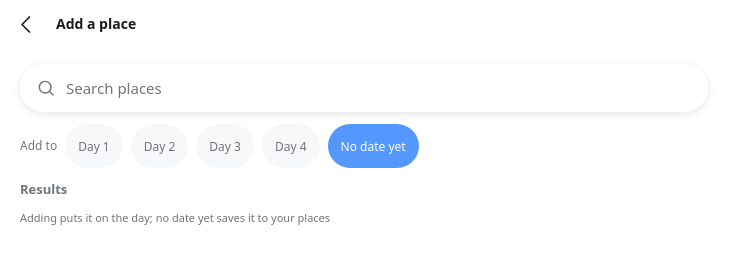
Test: FE-305-T2 the screen renders each state › says so when nothing matches
Type "없는장소" into the search field. click: x=378, y=88
box: [64,64,692,112]
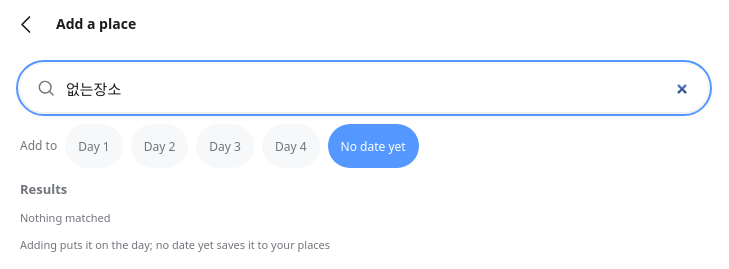
expect the text "Nothing matched" is shown: met, box [20,210,110,225]
